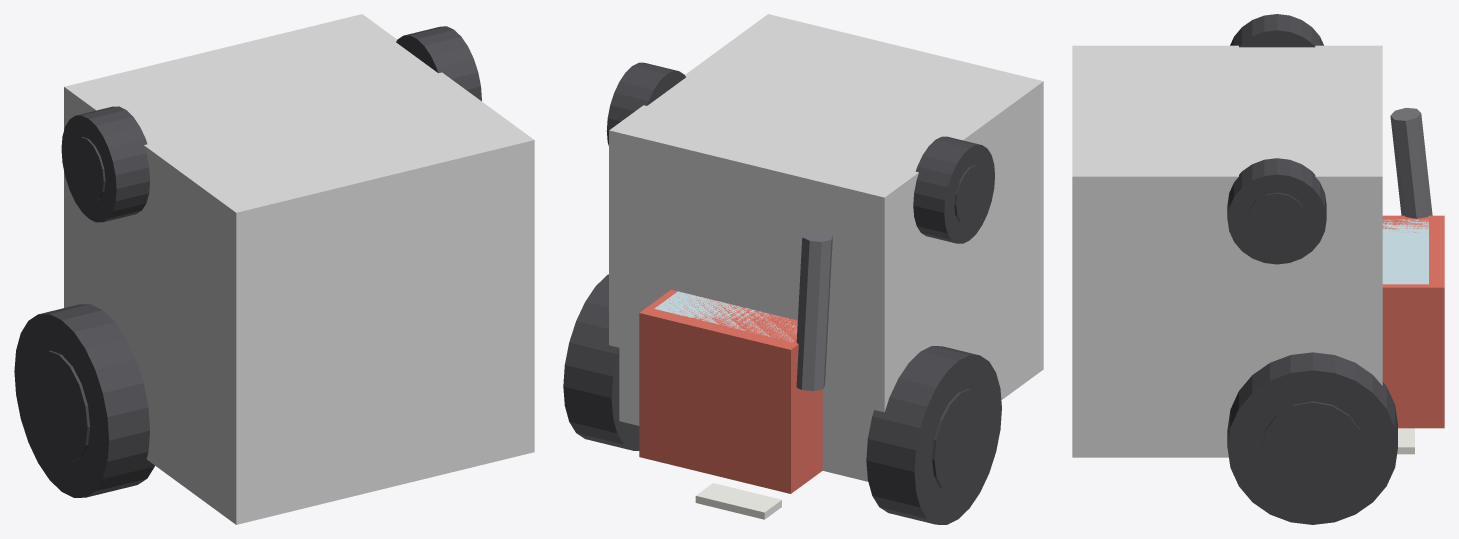
Rendered from tractor_5.glb.
The picture shows the model from 3 angles, left to right: view 1: azimuth 30°, elevation 25°; view 2: azimuth 150°, elevation 25°; view 3: azimuth 270°, elevation 25°; orthographic projection. The views are drawn at different scales.
Parts seen in each view (by area): view 1: Cube, Wheel_RR, Wheel_FR, Wheel_FL; view 2: Cube, Cabin, Wheel_RR, Wheel_RL, Wheel_FR, Exhaust, Wheel_FL, Window, Plate; view 3: Cube, Wheel_RL, Cabin, Wheel_FL, Exhaust, Window, Wheel_FR, Plate.
Part boxes in pixels (box(x1,y1,x2,y2)): Cube: box(64, 14, 534, 524); Wheel_RR: box(14, 304, 154, 497); Wheel_FR: box(61, 106, 149, 222); Wheel_FL: box(396, 26, 481, 101); Cube: box(609, 14, 1043, 481); Cabin: box(639, 289, 822, 493); Wheel_RR: box(866, 346, 1001, 524); Wheel_RL: box(563, 274, 639, 450); Wheel_FR: box(913, 136, 994, 243); Exhaust: box(796, 231, 832, 391); Wheel_FL: box(606, 62, 685, 145); Window: box(654, 291, 796, 341); Plate: box(695, 483, 781, 519); Cube: box(1072, 45, 1382, 457); Wheel_RL: box(1227, 352, 1397, 524); Cabin: box(1382, 215, 1444, 428); Wheel_FL: box(1227, 158, 1326, 264); Exhaust: box(1390, 108, 1432, 218); Window: box(1382, 219, 1428, 284); Wheel_FR: box(1230, 14, 1323, 47); Plate: box(1397, 428, 1414, 454).
Bounding box in the file's own units: 2.59 × 2.47 × 2.4.
